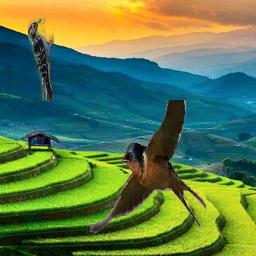Swallow: (88, 100, 207, 238)
Woodpecker: (28, 19, 54, 102)
